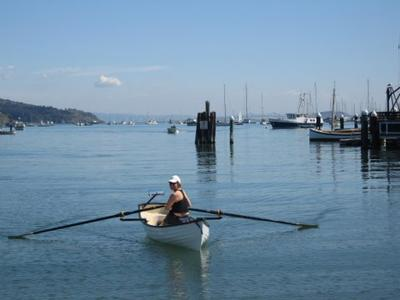person: (159, 175, 193, 228)
